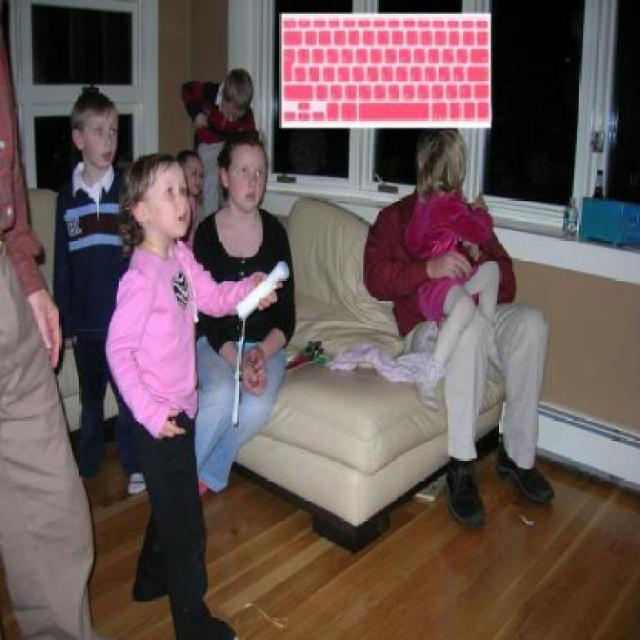keyboard: (267, 10, 497, 132)
